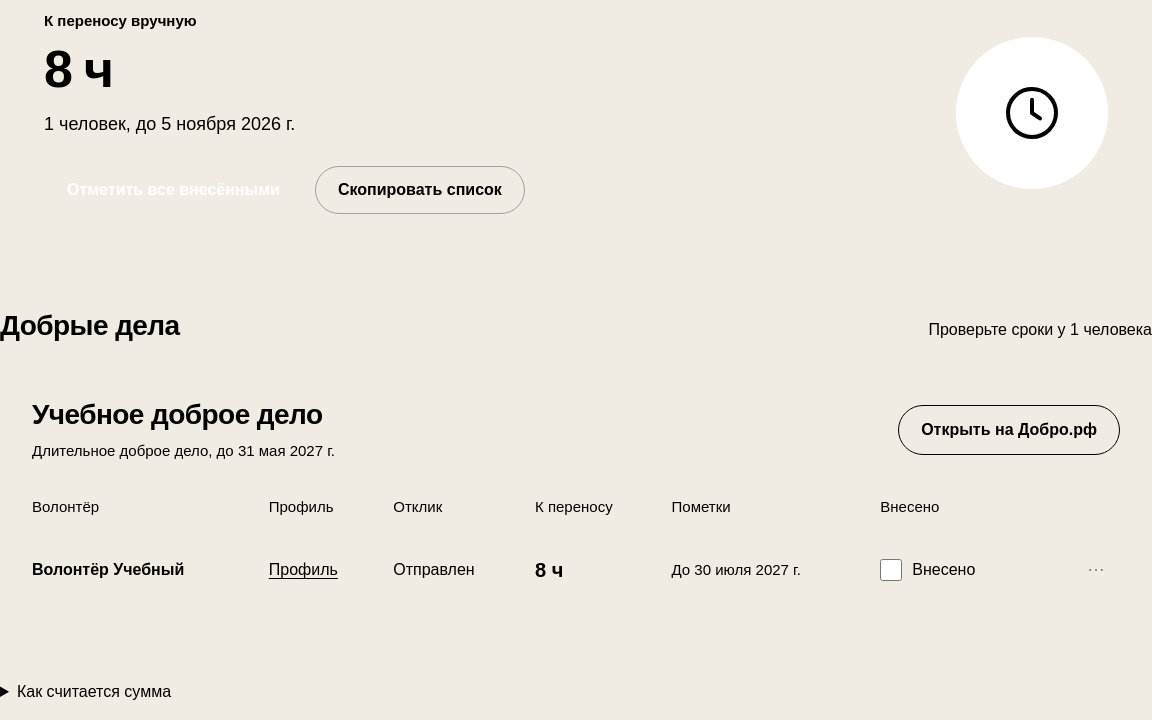
Test: renders authoritative hours and notes without writing or claiming external delivery
(page scrolled)
Expected: the heading "8 ч" is shown, left=44, top=40, right=112, bottom=98
Expected: the text "Расчётная сумма" is not shown
Click the button named "Подробнее: Волонтёр Учебный". click: (1096, 570)
box: left=1076, top=550, right=1116, bottom=590
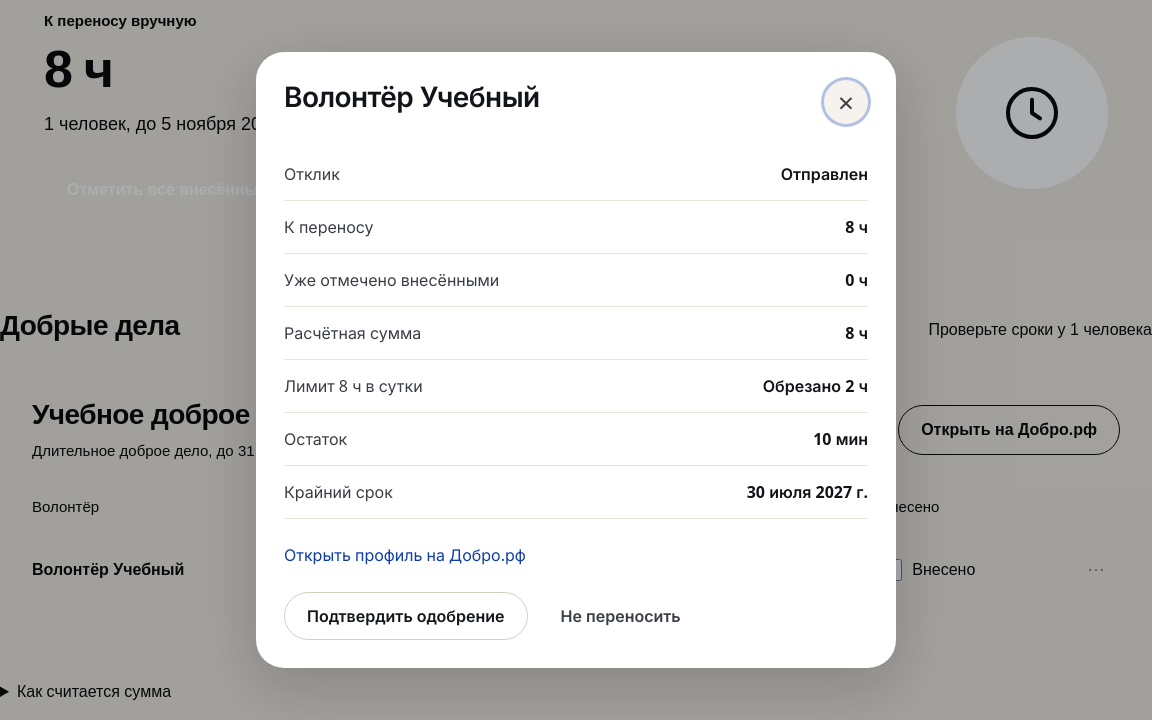
Result: the text "10 мин" is shown at left=813, top=427, right=868, bottom=451
Result: the text "Обрезано 2 ч" is shown at left=763, top=374, right=868, bottom=398
